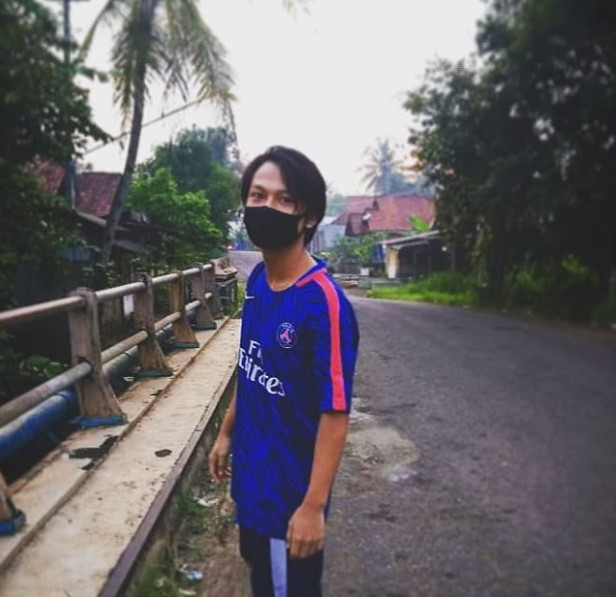face_with_mask: (239, 149, 321, 252)
